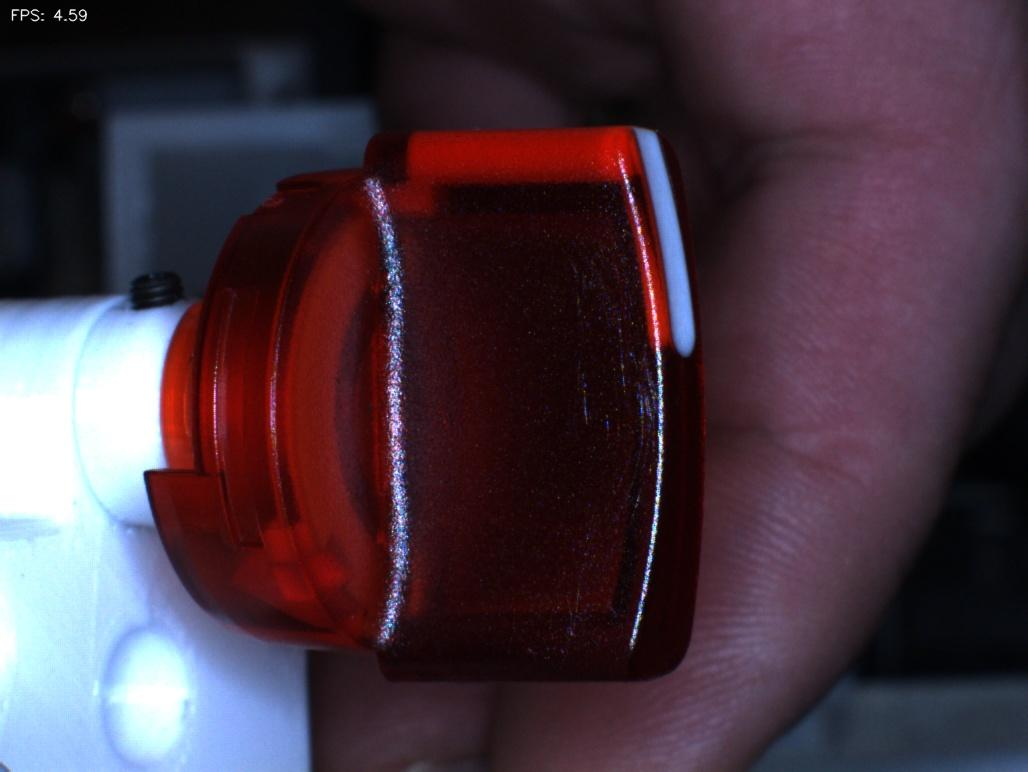Givrage: (574, 310, 665, 501)
